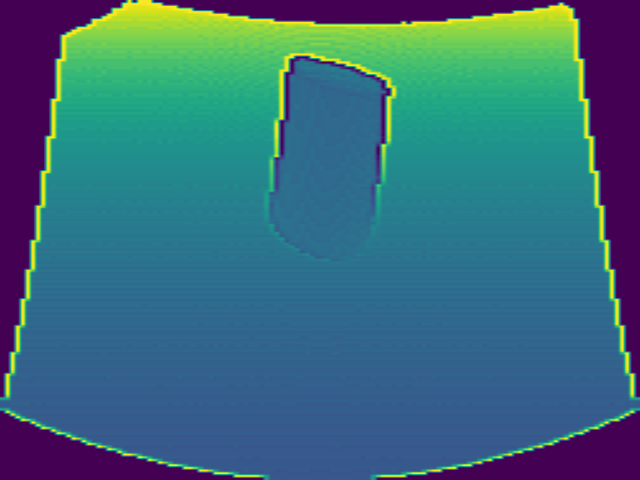cylinder: (265, 52, 394, 260)
